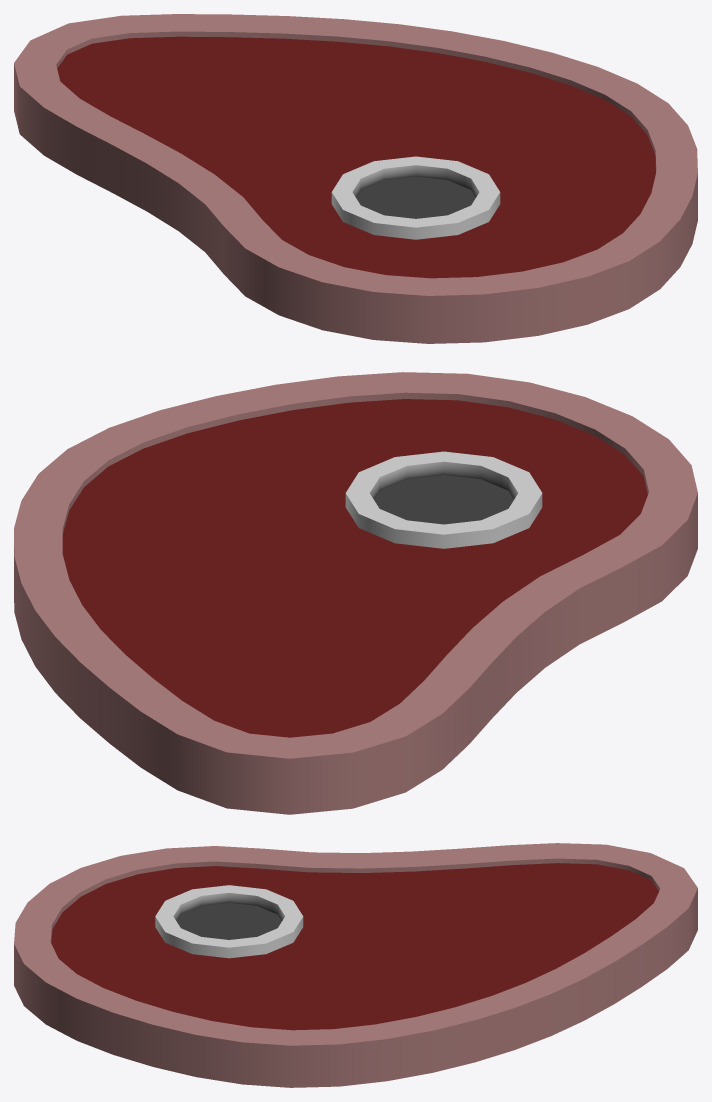
Rendered from MeatSlab.1.fbx.
3 views of the same model, one above another, from view 1: azimuth 30°, elevation 25°; view 2: azimuth 150°, elevation 25°; view 3: azimuth 270°, elevation 25° (orthographic). The views are drawn at different scales.
Parts seen in each view (by area): view 1: autouv1; view 2: autouv1; view 3: autouv1.
Part boxes in pixels (<box>): autouv1: <box>14,14,697,343</box>; autouv1: <box>14,372,697,814</box>; autouv1: <box>14,843,697,1087</box>.
Bounding box in the file's own units: 0.9588 × 0.12 × 1.37.
